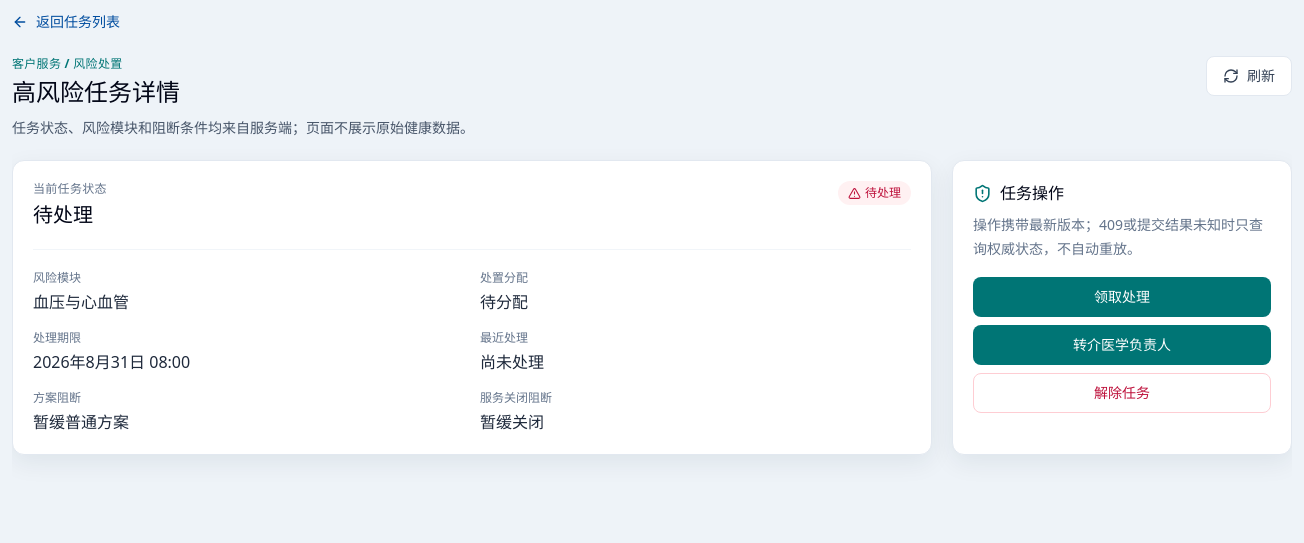
一期切片5机构评估摘要与高风险任务 › unknown commit查询后仅以同一Key和同一请求确认
Step 1. Click the button "领取处理" → [1122, 297], box top-left (973, 277), bottom-right (1271, 317)
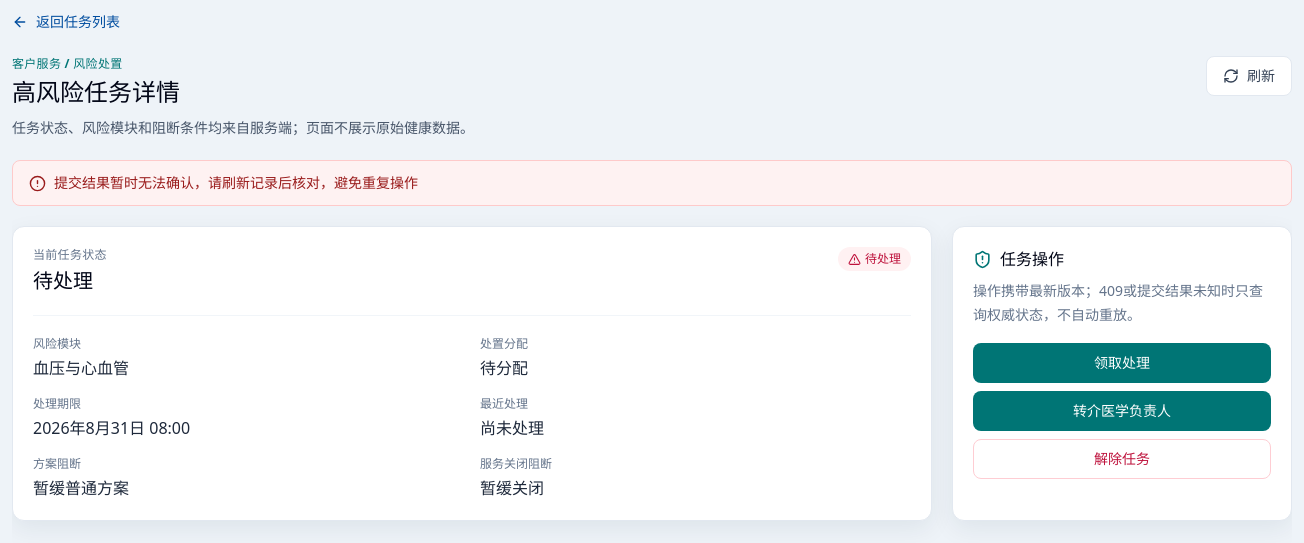
Check: the message shows "提交结果暂时无法确认", box top-left (54, 173), bottom-right (418, 192)
Step 2. Click the button "领取处理" → [1122, 363], box top-left (973, 343), bottom-right (1271, 383)
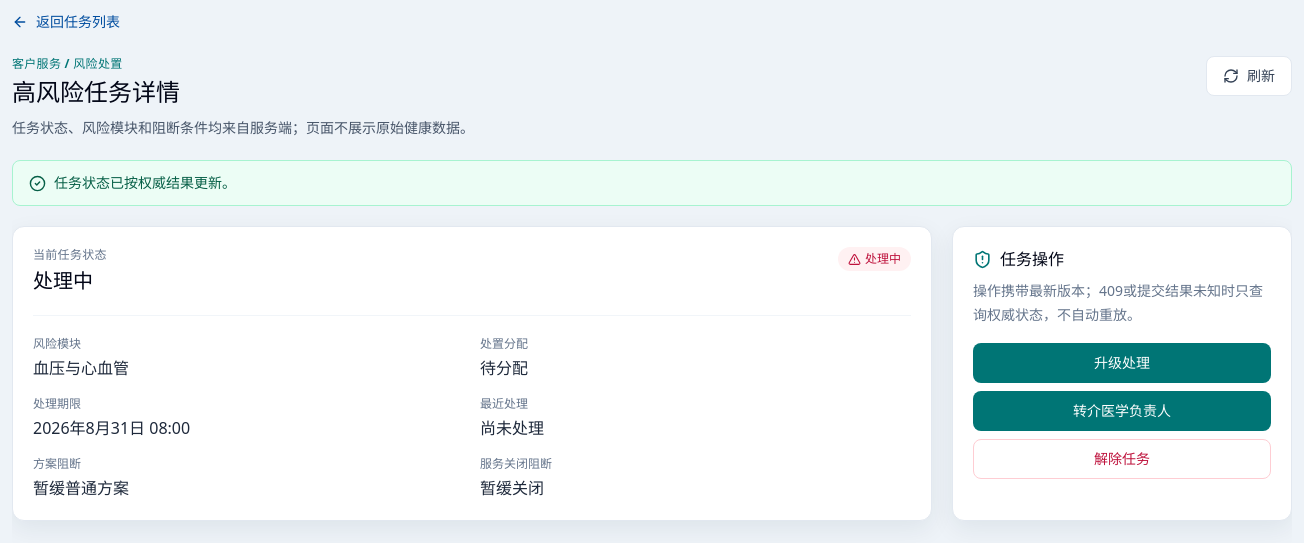
Check: the heading "处理中" is shown, box top-left (33, 267), bottom-right (93, 294)
